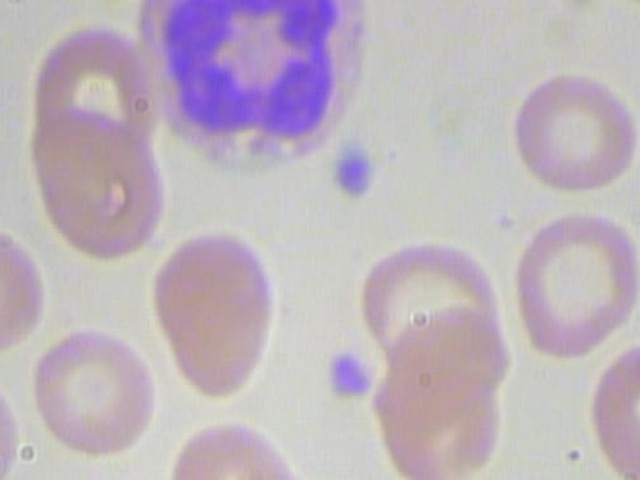Platelets: (320, 137, 388, 209), (328, 348, 380, 398)
RBC: (142, 220, 287, 402), (368, 305, 508, 480), (23, 104, 165, 266), (506, 206, 640, 365), (22, 320, 161, 459), (509, 62, 640, 201), (569, 340, 640, 480), (0, 220, 51, 357), (0, 363, 18, 480), (0, 1, 13, 161), (580, 0, 640, 13), (41, 0, 184, 5)
WBC: (134, 0, 376, 182)
